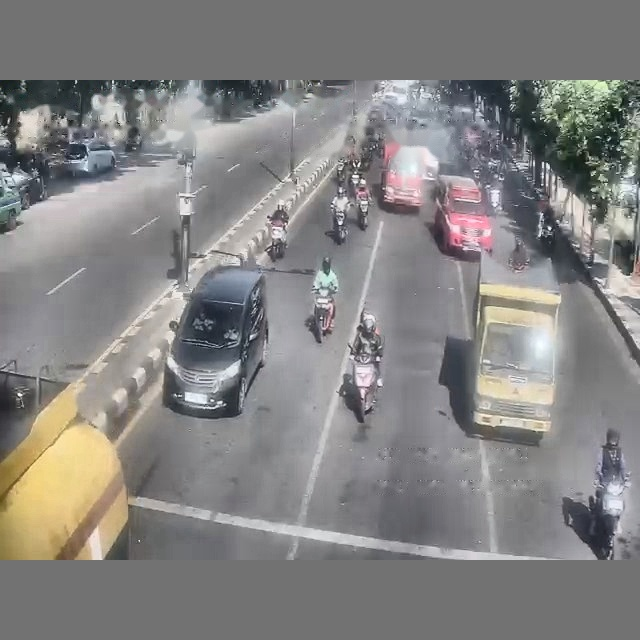Mobil: (162, 265, 268, 415), (433, 174, 492, 253), (0, 164, 47, 209), (64, 139, 116, 176), (0, 172, 21, 231)
Motor: (590, 474, 629, 559), (349, 345, 377, 421), (313, 289, 333, 342), (268, 216, 286, 261), (332, 206, 347, 244), (539, 220, 555, 253), (486, 185, 501, 214), (357, 197, 369, 230), (336, 161, 346, 185)
Truk: (471, 253, 560, 439)
